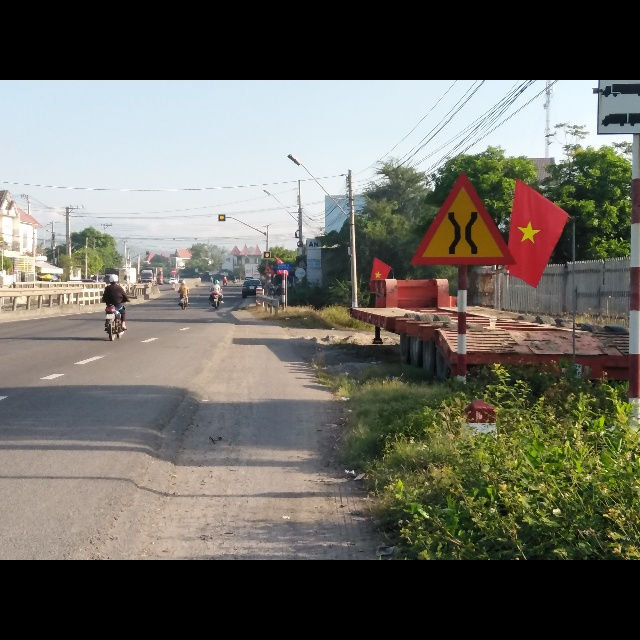Cầu hẹp: (409, 174, 515, 268)
